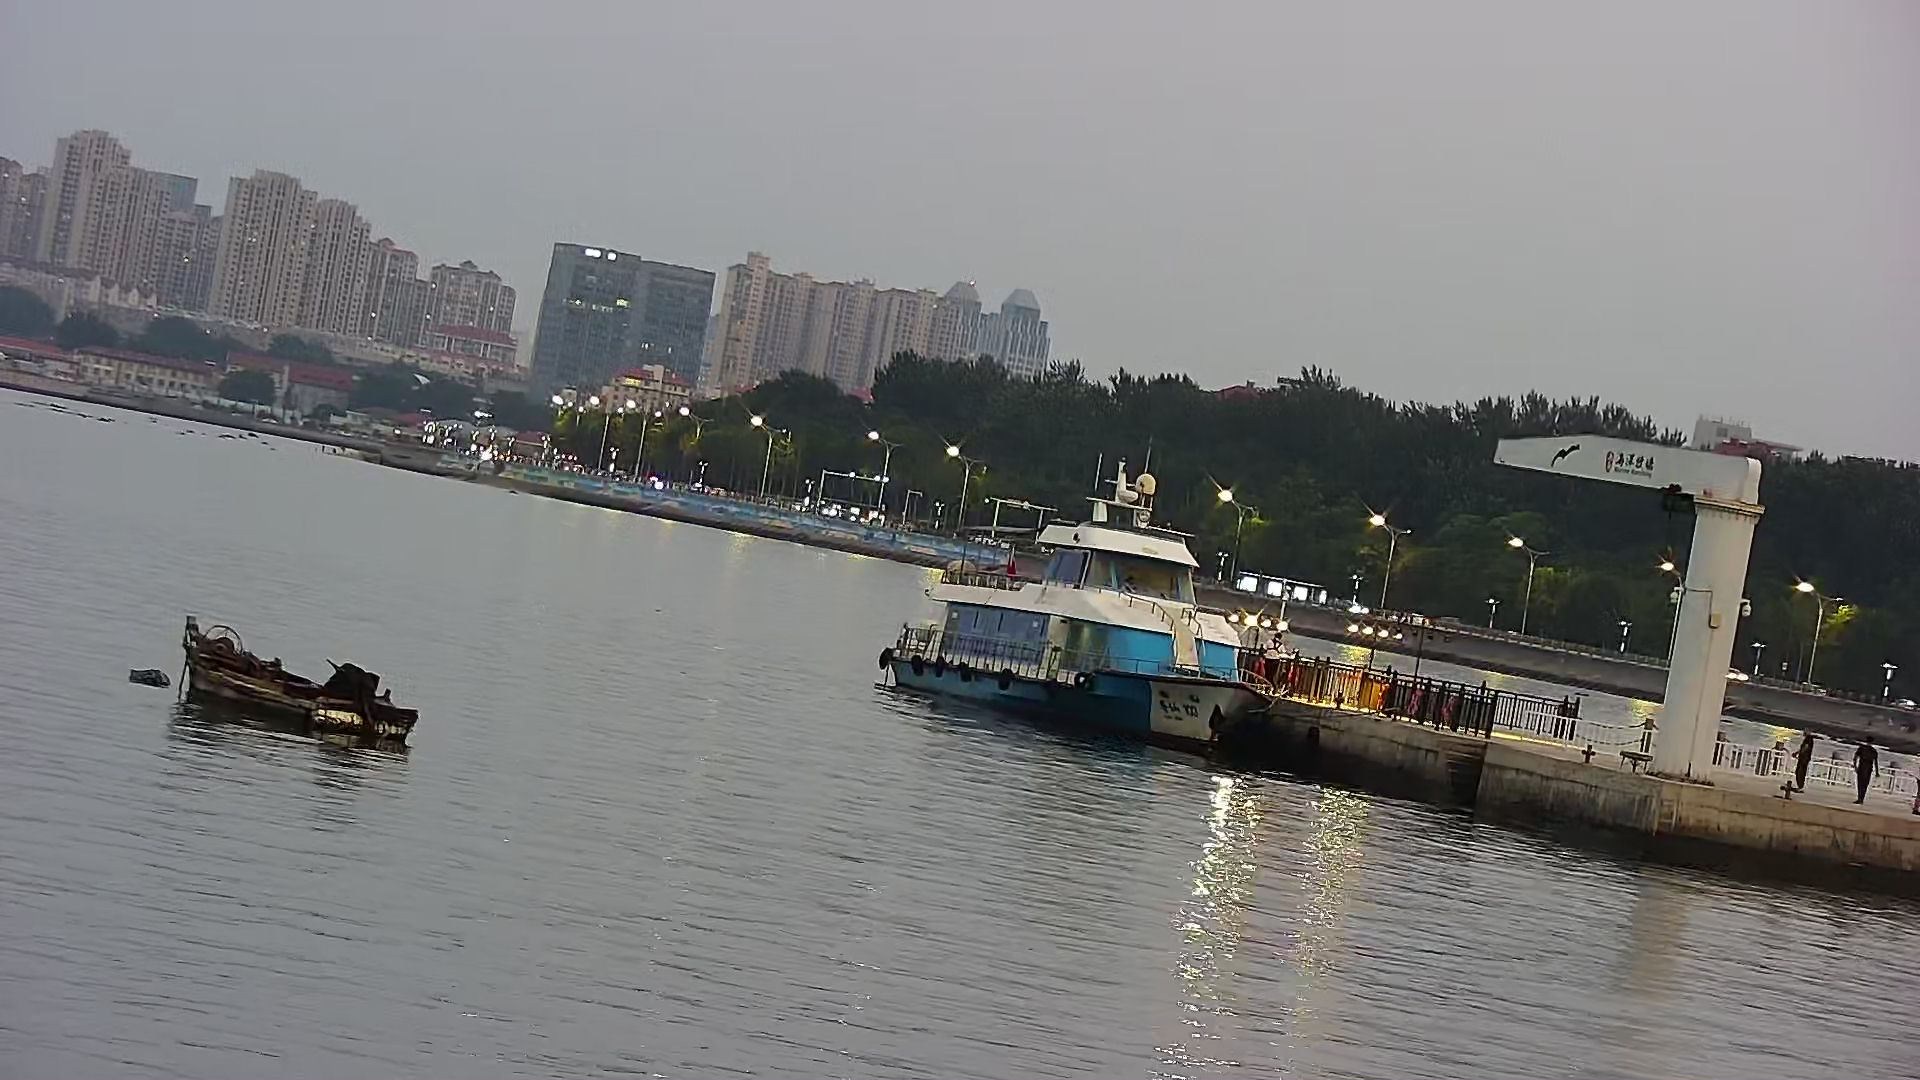boat: (178, 592, 446, 789)
harbor: (1087, 644, 1915, 882)
rubbish: (125, 655, 167, 694)
ship: (870, 465, 1258, 758)
